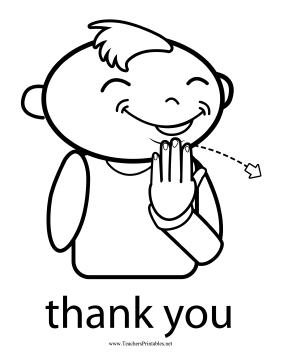Thankyou: (145, 137, 212, 250)
